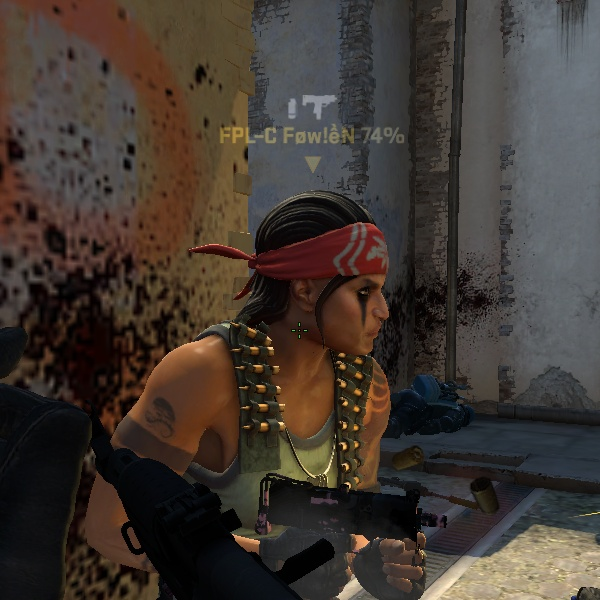t_body: (154, 189, 550, 593)
t_head: (217, 183, 418, 360)
